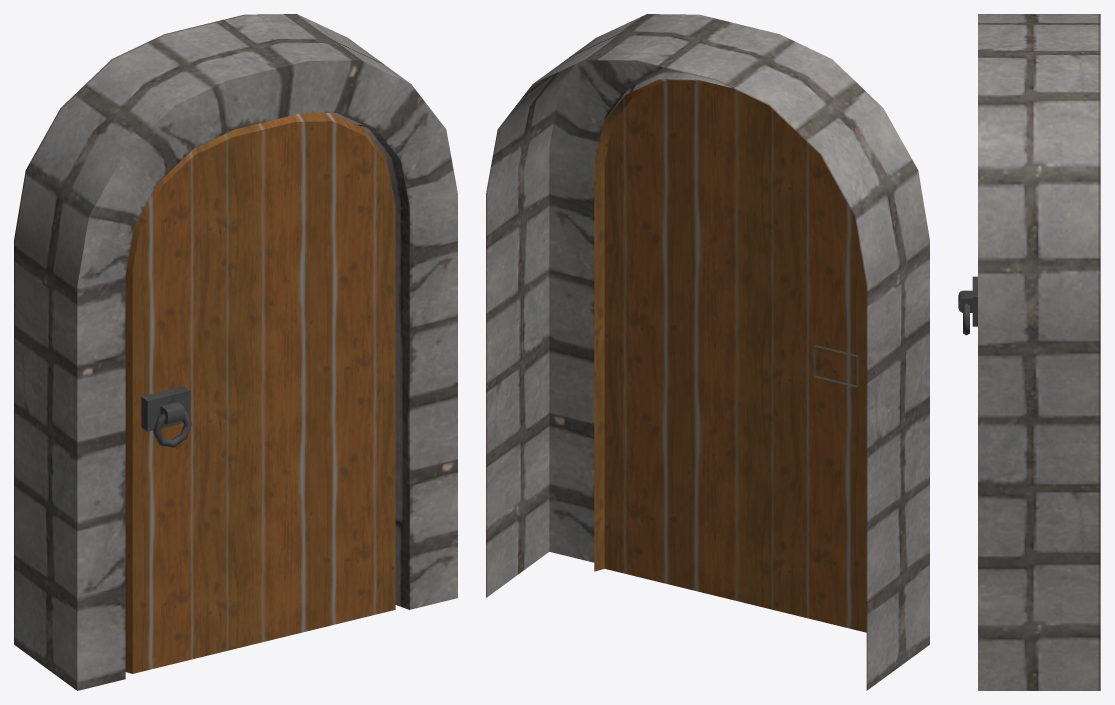
Rendered from Module_Door_Round2.fbx.
3 views of the same model, side by side, from view 1: azimuth 30°, elevation 25°; view 2: azimuth 150°, elevation 25°; view 3: azimuth 270°, elevation 25° (orthographic). The views are drawn at different scales.
Visible parts, largest first — view 1: Module_Door_Round2; view 2: Module_Door_Round2; view 3: Module_Door_Round2.
Part boxes in pixels (x1,y1,x2,y2): Module_Door_Round2: (14, 14, 457, 690); Module_Door_Round2: (486, 14, 929, 690); Module_Door_Round2: (958, 14, 1100, 690).
Size of the model in its own units: 140 by 201 by 46.78.
